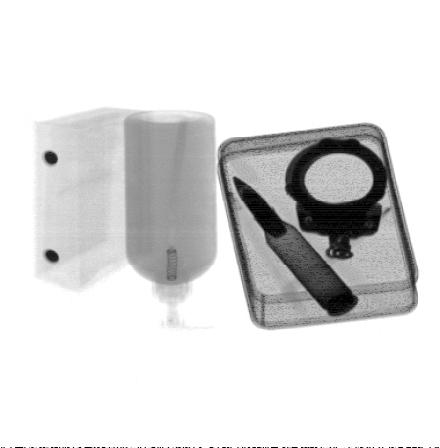Bullet: (232, 176, 360, 316)
HandCuffs: (282, 136, 388, 260)
